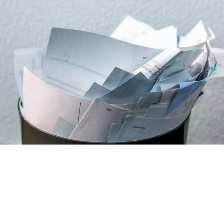book: (9, 2, 224, 143)
